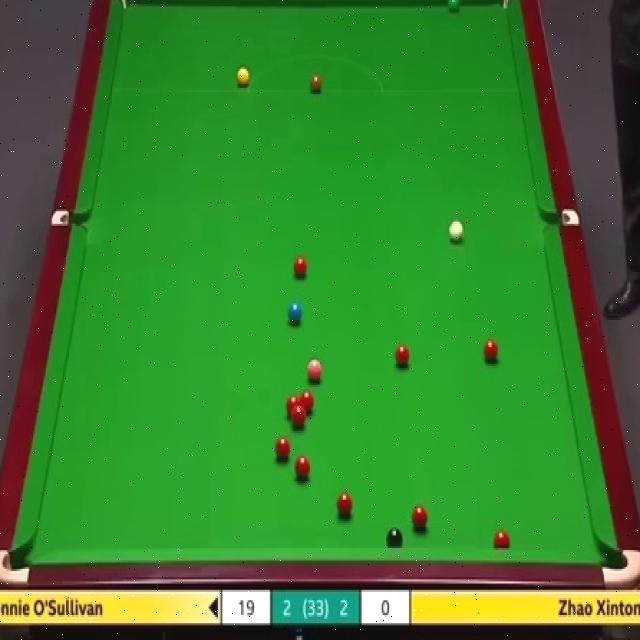black-ball: (384, 527, 403, 550)
blue-ball: (286, 302, 303, 327)
brown-ball: (308, 72, 323, 95)
green-ball: (446, 0, 462, 13)
pink-ball: (306, 357, 323, 384)
red-ball: (394, 342, 412, 372), (334, 492, 353, 520), (293, 455, 311, 484), (410, 505, 428, 533), (274, 436, 291, 463), (483, 337, 499, 364), (293, 256, 309, 282), (300, 391, 315, 416), (494, 528, 511, 550), (292, 408, 306, 429), (286, 395, 300, 416)
white-ball: (447, 216, 465, 246)
yellow-ball: (234, 66, 250, 87)
